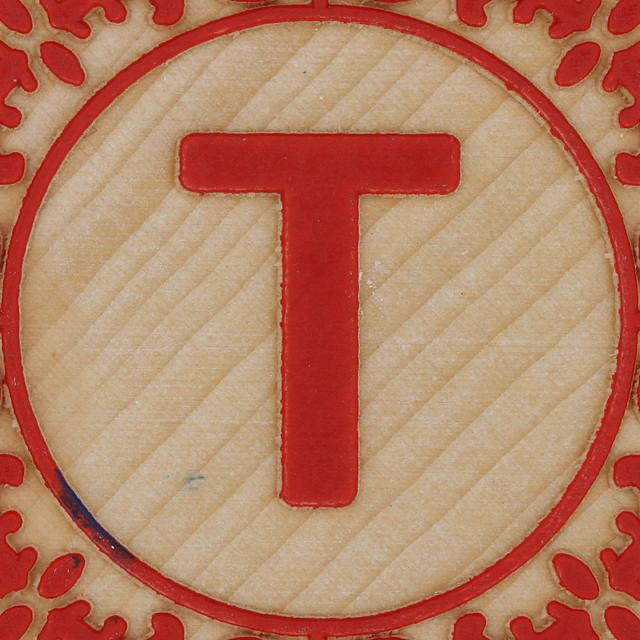T: (142, 94, 479, 524)
